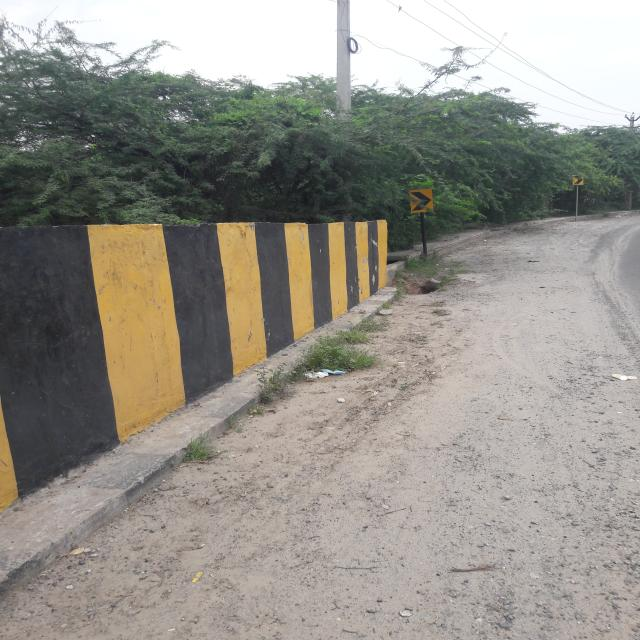TURN_RIGHT: (409, 188, 434, 214), (572, 174, 584, 186)
